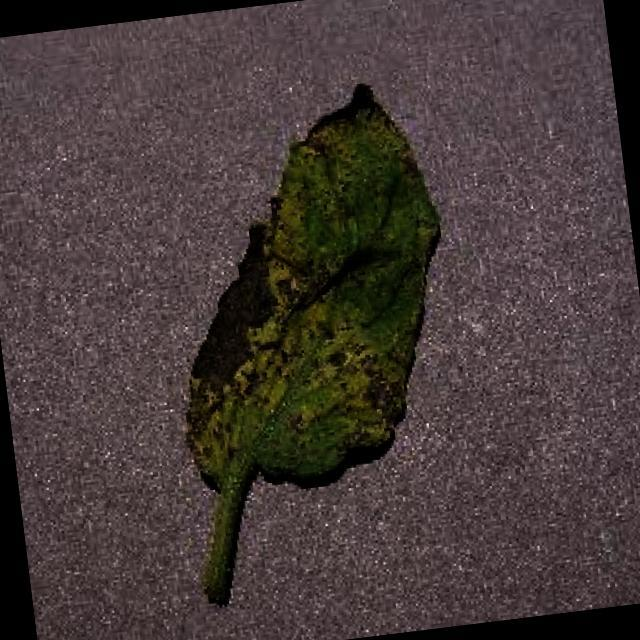Tomato Septoria spot leaf: (150, 97, 472, 497)
